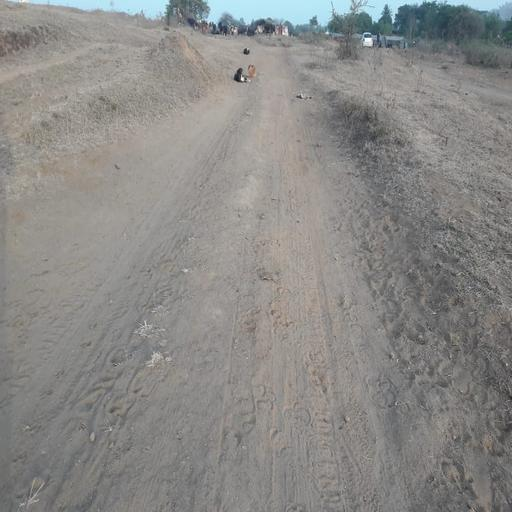vehicle_track: (0, 93, 249, 512), (212, 98, 420, 512)
